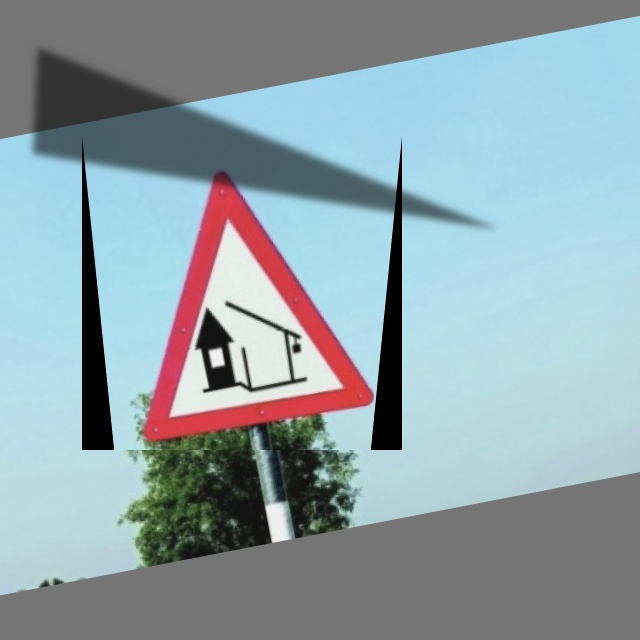Barrier_Ahead: (82, 136, 402, 450)
